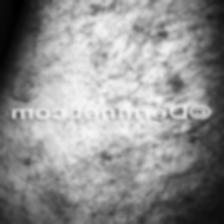Toxin: (83, 136, 143, 176), (166, 70, 194, 90)
